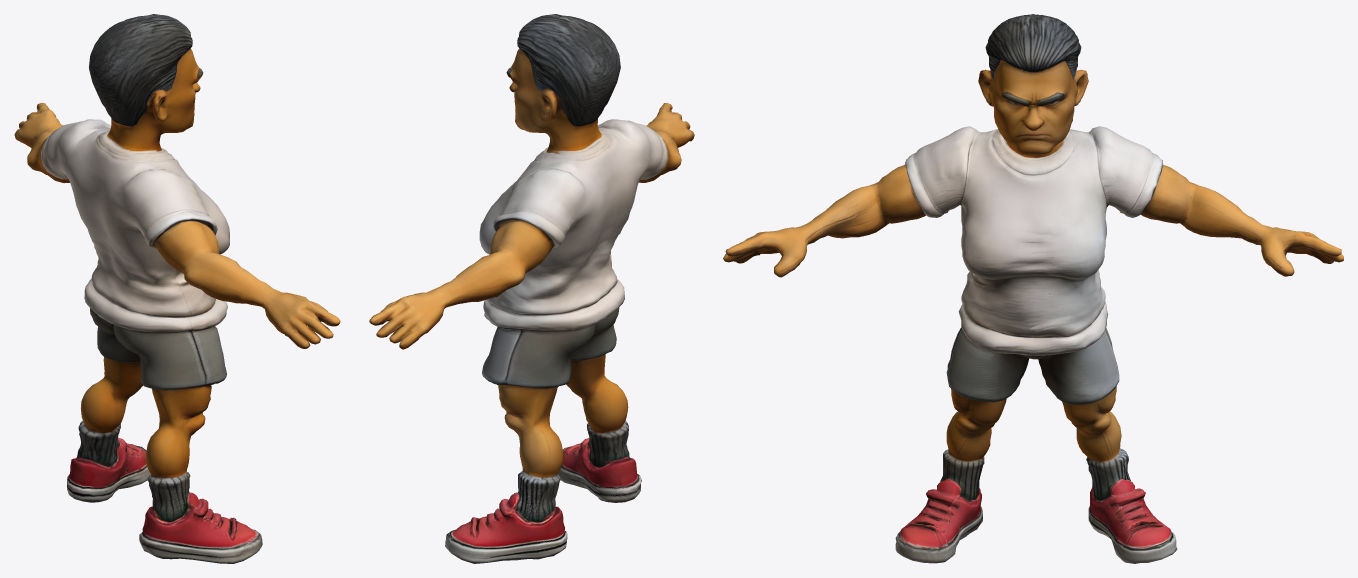
The picture shows the model from 3 angles, left to right: view 1: azimuth 30°, elevation 25°; view 2: azimuth 150°, elevation 25°; view 3: azimuth 270°, elevation 25°; orthographic projection. The views are drawn at different scales.
Parts seen in each view (by area): view 1: tripo_node_12571bee; view 2: tripo_node_12571bee; view 3: tripo_node_12571bee.
Boxes of the visible parts, left/top/right/bottom form: tripo_node_12571bee: left=14, top=14, right=340, bottom=563; tripo_node_12571bee: left=369, top=14, right=694, bottom=563; tripo_node_12571bee: left=723, top=14, right=1343, bottom=563.
Size of the model in its own units: 0.229 by 0.9217 by 1.
Materials: 1 (1 with a texture image).
